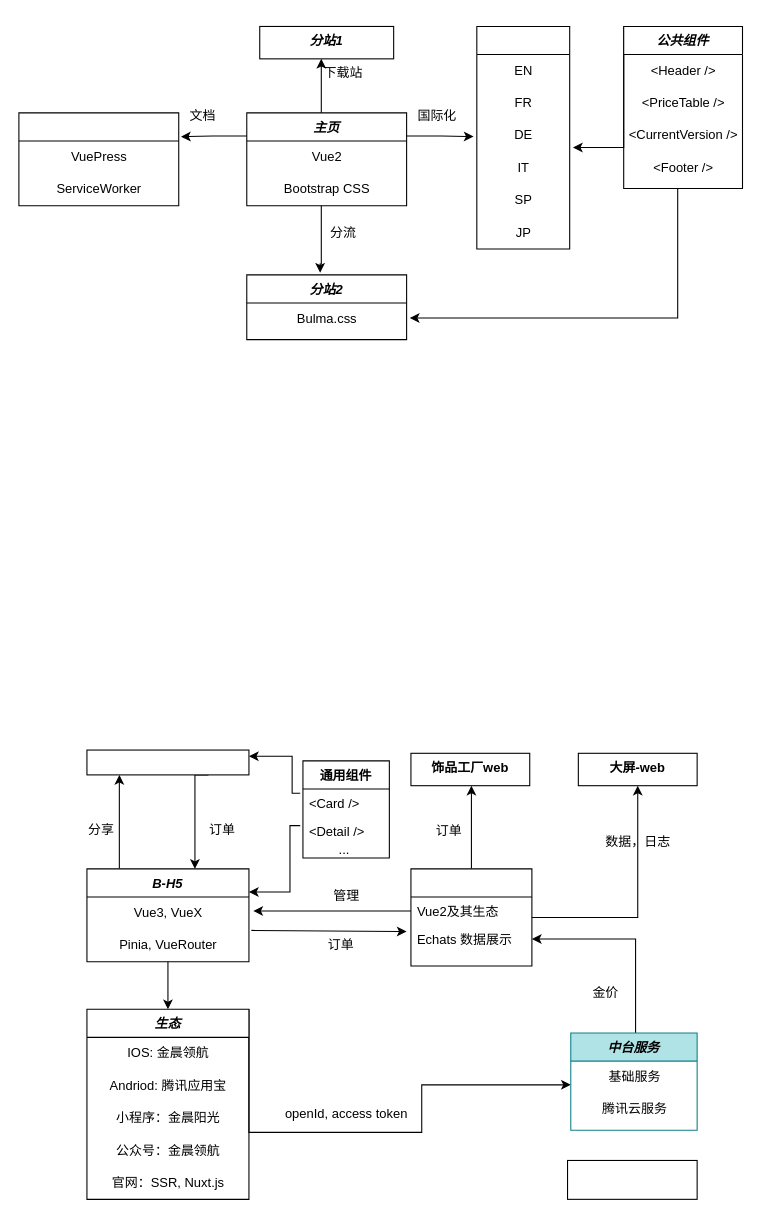
Some shapes in this 761 by 1218 pixel diagram are drawn without their labels. Each missing label, with the box of its shape:
C-H5: (86, 749, 249, 775)
gm-cli: 项目创建: (566, 1159, 697, 1199)
多国语言: (476, 25, 570, 249)
操作指南: (18, 112, 179, 206)
管理-web: (410, 868, 532, 966)
